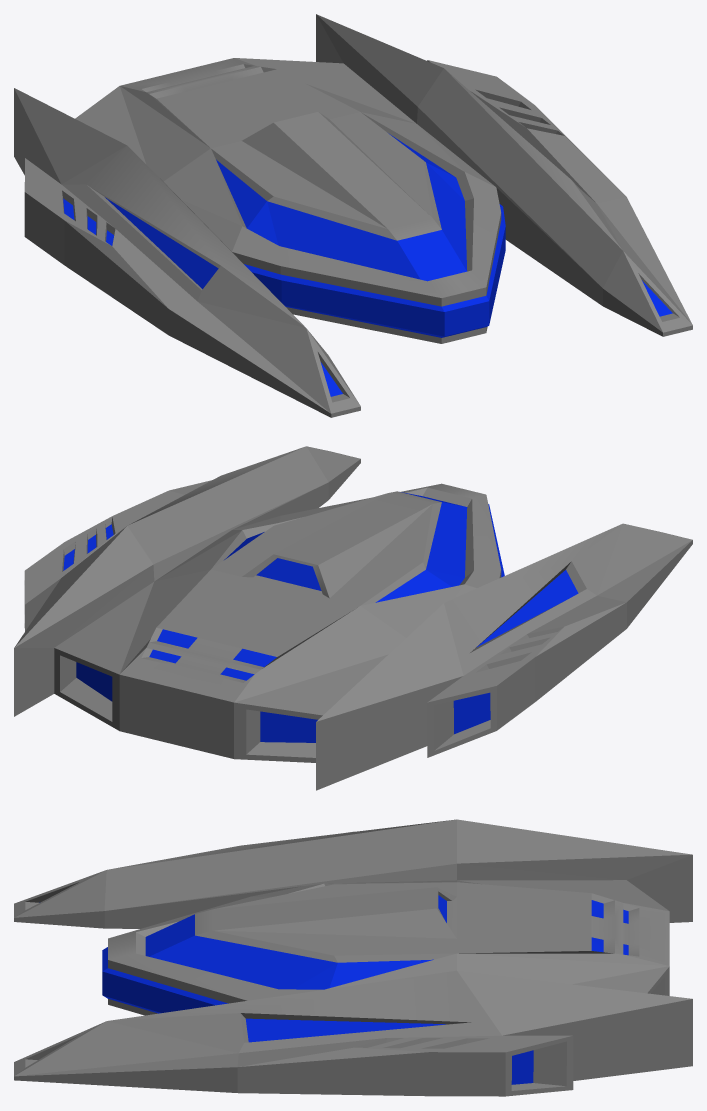
File: PlayerShip_blue.fbx
3 renders of one model, top to bottom at view 1: azimuth 30°, elevation 25°; view 2: azimuth 150°, elevation 25°; view 3: azimuth 270°, elevation 25°, orthographic. The views are drawn at different scales.
Visible parts, largest first — view 1: playerShip_Blue; view 2: playerShip_Blue; view 3: playerShip_Blue.
Part boxes in pixels (x1,y1,x2,y2): playerShip_Blue: [14, 14, 692, 417]; playerShip_Blue: [14, 446, 692, 790]; playerShip_Blue: [14, 819, 692, 1096].
Bounding box in the file's own units: 4.23 × 0.867 × 5.39.
